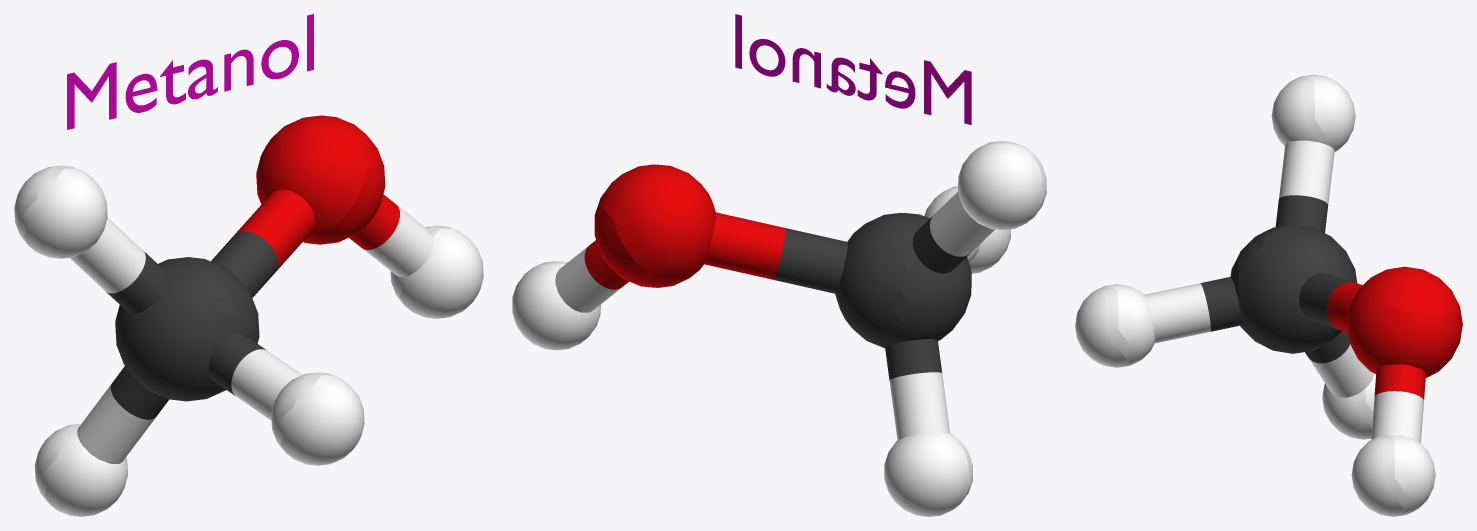
The model's file is metanol.glb.
The picture shows the model from 3 angles, left to right: view 1: azimuth 30°, elevation 25°; view 2: azimuth 150°, elevation 25°; view 3: azimuth 270°, elevation 25°; orthographic projection. The views are drawn at different scales.
Parts seen in each view (by area): view 1: Shape_IndexedFaceSet.016, Shape_IndexedFaceSet.022, Shape_IndexedFaceSet.006, Text; view 2: Shape_IndexedFaceSet.016, Shape_IndexedFaceSet.022, Shape_IndexedFaceSet.006, Text; view 3: Shape_IndexedFaceSet.016, Shape_IndexedFaceSet.022, Shape_IndexedFaceSet.006.
Part boxes in pixels (x1=…): Shape_IndexedFaceSet.016: x1=14, y1=165, x2=483, y2=516; Shape_IndexedFaceSet.022: x1=106, y1=231, x2=277, y2=419; Shape_IndexedFaceSet.006: x1=234, y1=115, x2=399, y2=271; Text: x1=67, y1=14, x2=313, y2=129; Shape_IndexedFaceSet.016: x1=512, y1=141, x2=1046, y2=516; Shape_IndexedFaceSet.022: x1=774, y1=213, x2=971, y2=380; Shape_IndexedFaceSet.006: x1=584, y1=164, x2=785, y2=289; Text: x1=735, y1=14, x2=971, y2=124; Shape_IndexedFaceSet.016: x1=1075, y1=74, x2=1435, y2=516; Shape_IndexedFaceSet.022: x1=1200, y1=195, x2=1357, y2=363; Shape_IndexedFaceSet.006: x1=1327, y1=266, x2=1462, y2=399.
Bounding box in the file's own units: 31.2 × 27.15 × 23.34.
